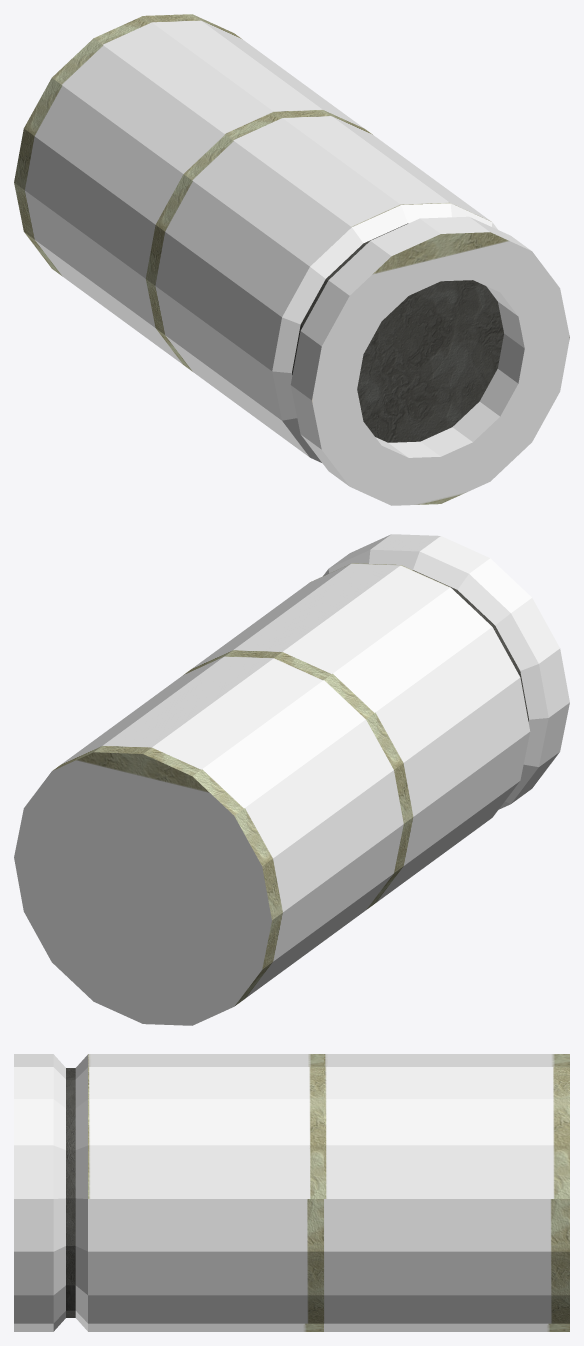
The picture shows the model from 3 angles, top to bottom: view 1: azimuth 30°, elevation 25°; view 2: azimuth 150°, elevation 25°; view 3: azimuth 270°, elevation 25°; orthographic projection. The views are drawn at different scales.
Visible parts, largest first — view 1: Cube_Cube_None_QuartoPieces.png; view 2: Cube_Cube_None_QuartoPieces.png; view 3: Cube_Cube_None_QuartoPieces.png.
Part boxes in pixels (<box>): Cube_Cube_None_QuartoPieces.png: <box>14,14,569,505</box>; Cube_Cube_None_QuartoPieces.png: <box>14,534,569,1025</box>; Cube_Cube_None_QuartoPieces.png: <box>14,1054,569,1331</box>.
Bounding box in the file's own units: 2 × 2 × 4.
